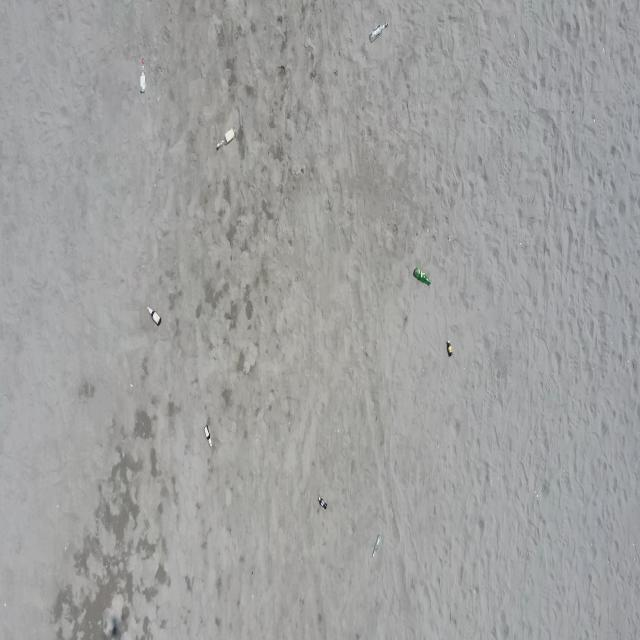glass: (216, 126, 237, 151), (370, 22, 388, 42), (414, 267, 432, 285), (147, 306, 161, 326), (372, 534, 382, 558), (140, 58, 146, 94), (204, 425, 212, 447), (318, 496, 328, 510), (447, 340, 453, 357)
